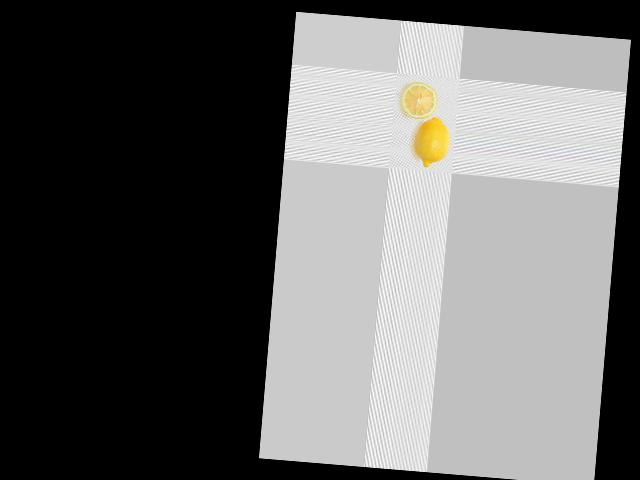lemon: (414, 110, 455, 168)
